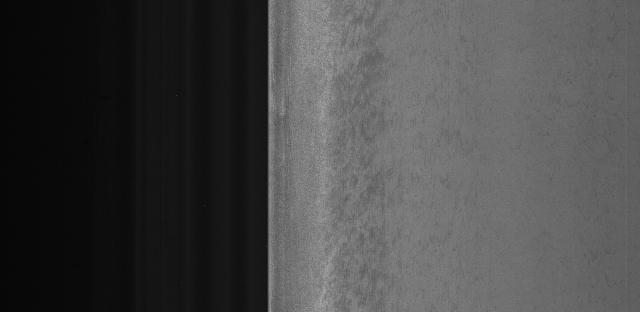silk_spot: (313, 26, 410, 289)
